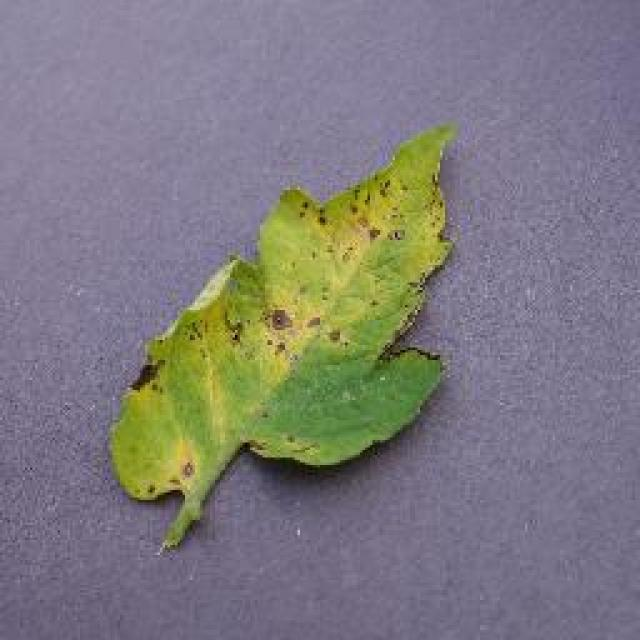Tom_Septoria_leaf_spot: (135, 285, 373, 389), (301, 152, 459, 262)
